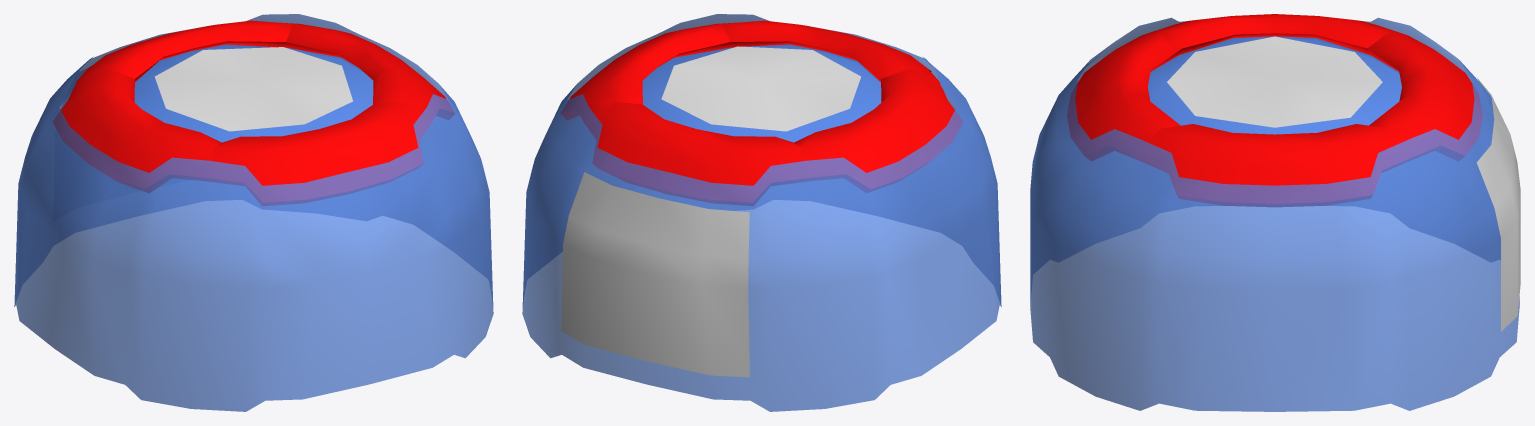
The model's file is obj_characterobject_farmbotpackage_top.fbx.
3 renders of one model, left to right at view 1: azimuth 30°, elevation 25°; view 2: azimuth 150°, elevation 25°; view 3: azimuth 270°, elevation 25°, orthographic. The views are drawn at different scales.
Visible parts, largest first — view 1: obj_characterobject_farmbot_top; view 2: obj_characterobject_farmbot_top; view 3: obj_characterobject_farmbot_top.
Boxes of the visible parts, left/top/right/bottom form: obj_characterobject_farmbot_top: left=14, top=14, right=493, bottom=411; obj_characterobject_farmbot_top: left=522, top=14, right=1001, bottom=411; obj_characterobject_farmbot_top: left=1030, top=14, right=1520, bottom=411.
Bounding box in the file's own units: 18.6 × 10.27 × 18.65.
